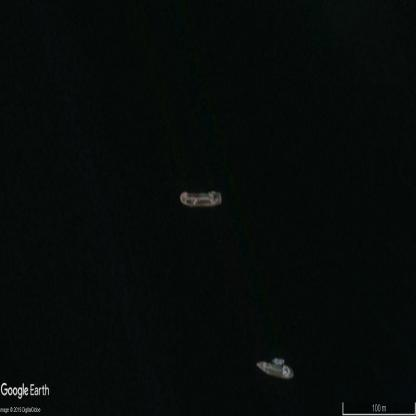ship: (179, 189, 222, 207), (257, 361, 294, 378), (273, 358, 284, 365)
